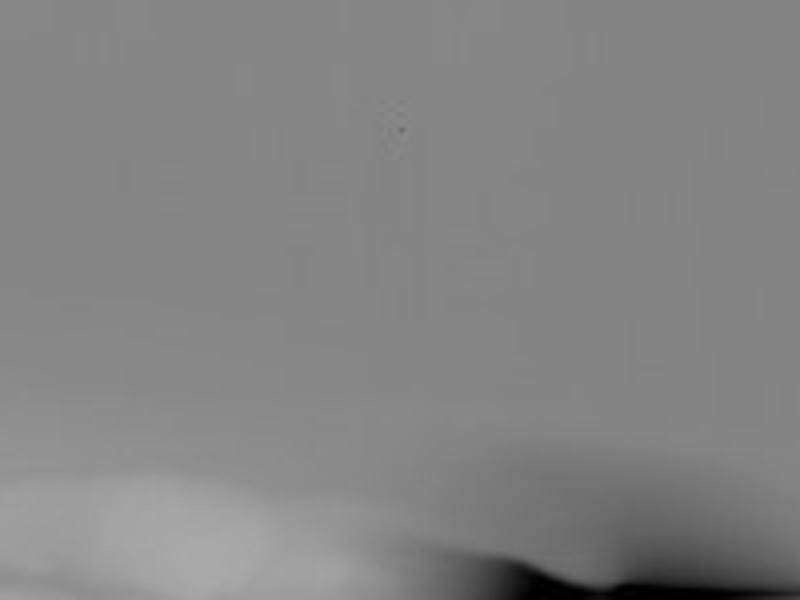defect: (457, 549, 596, 600)
